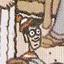waldo: (15, 14, 44, 49)
